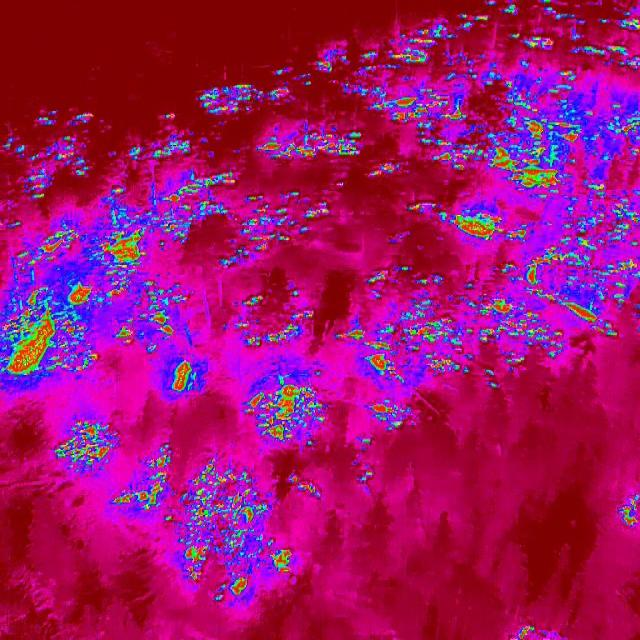fire: (346, 260, 561, 390), (176, 458, 298, 606), (414, 99, 583, 198), (338, 28, 484, 132), (499, 0, 640, 76), (0, 108, 96, 204), (525, 247, 621, 338), (575, 181, 640, 294), (105, 272, 194, 352), (152, 171, 241, 251), (0, 293, 64, 392), (218, 291, 312, 357), (244, 376, 329, 446), (242, 191, 336, 253), (108, 440, 174, 522), (255, 123, 368, 168), (188, 80, 302, 120), (9, 217, 80, 271), (54, 418, 120, 472), (270, 46, 342, 92), (443, 203, 522, 243), (532, 67, 588, 116), (478, 68, 536, 114), (98, 224, 151, 274), (597, 96, 640, 154), (62, 318, 101, 377), (168, 352, 214, 402), (361, 397, 417, 435), (151, 131, 202, 165), (613, 489, 640, 533), (448, 5, 494, 30), (366, 160, 408, 182), (65, 280, 94, 308), (298, 478, 324, 502), (512, 621, 539, 640), (407, 196, 432, 216), (108, 181, 131, 201), (357, 463, 375, 486), (354, 434, 372, 452), (128, 141, 142, 164), (158, 107, 179, 122)
